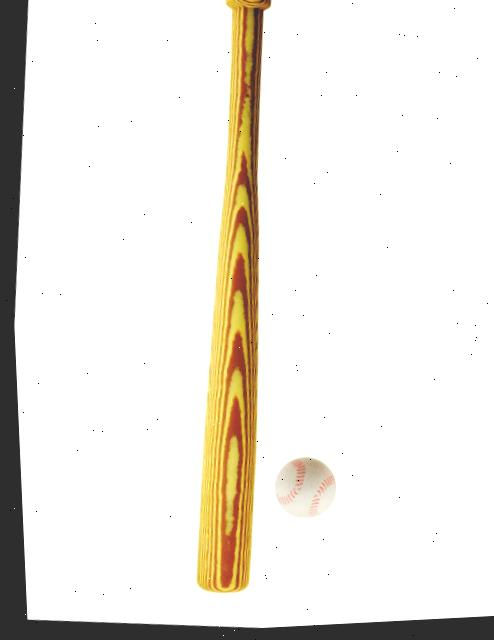baseball bat: (143, 0, 303, 605)
